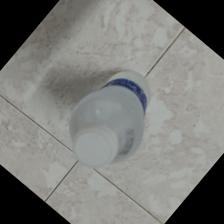Aquafina: (63, 68, 154, 175)
